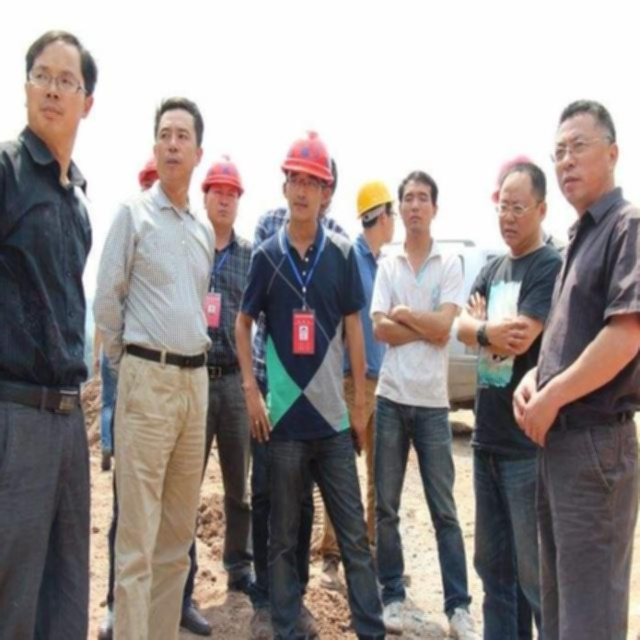Con_Casco: (280, 130, 335, 222)
Sin_Casco_Mascarrilla: (397, 169, 440, 235)
